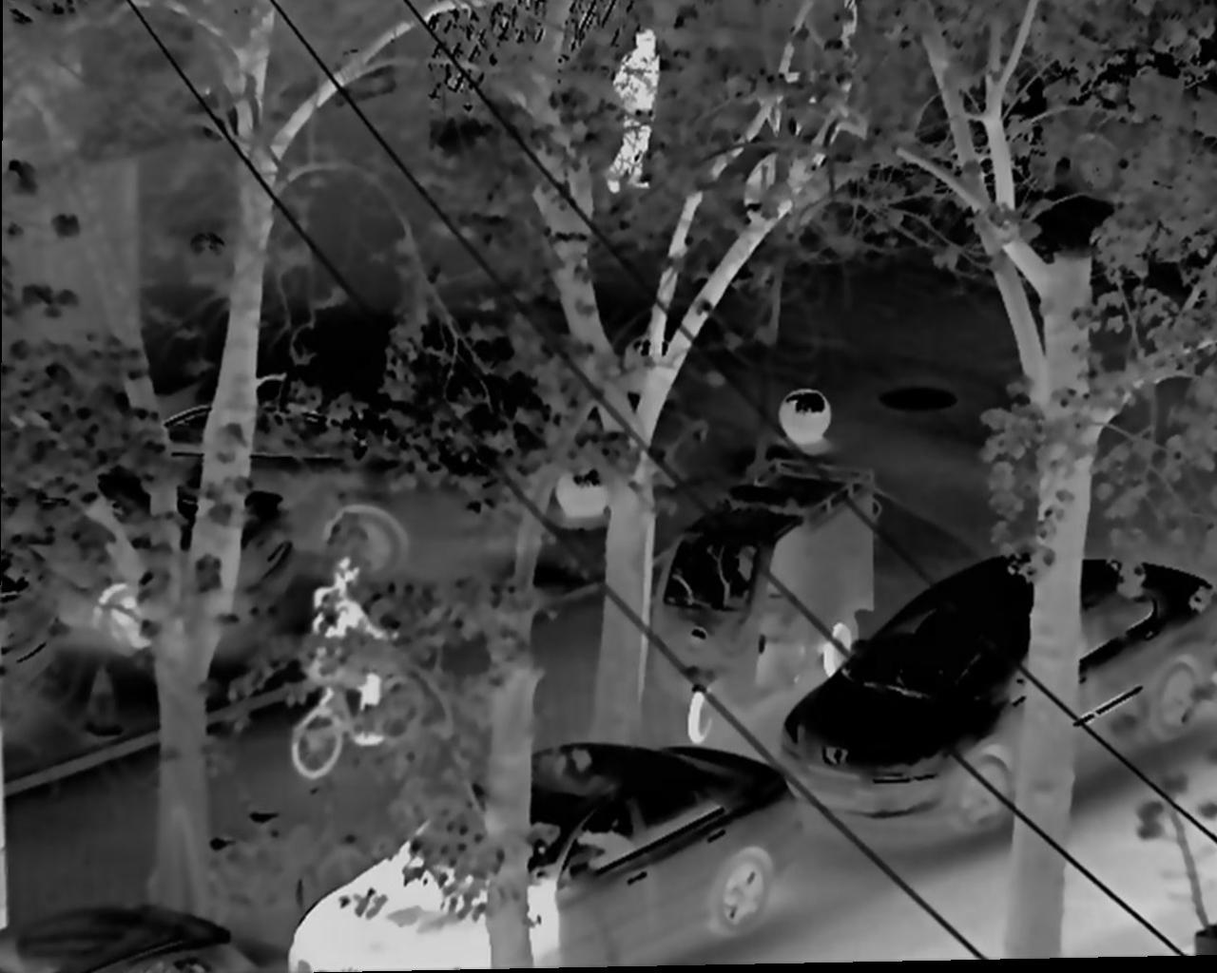person: (291, 557, 410, 731), (595, 21, 666, 199)
